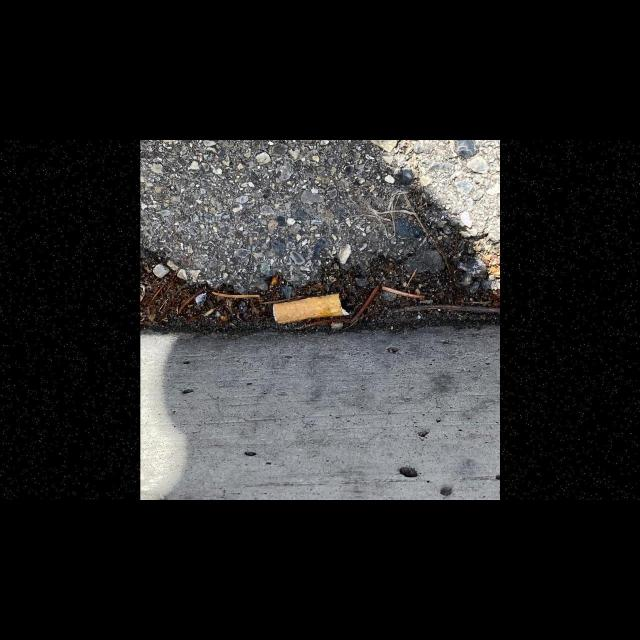cigarette: (272, 293, 351, 325)
